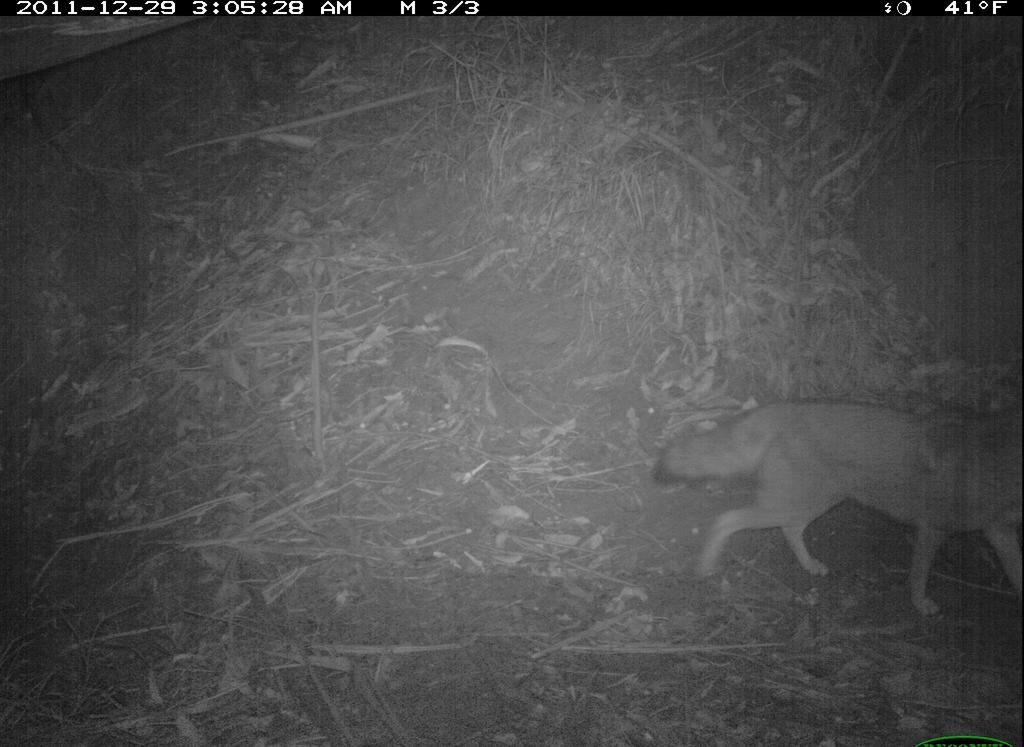coyote: (634, 368, 1024, 628)
